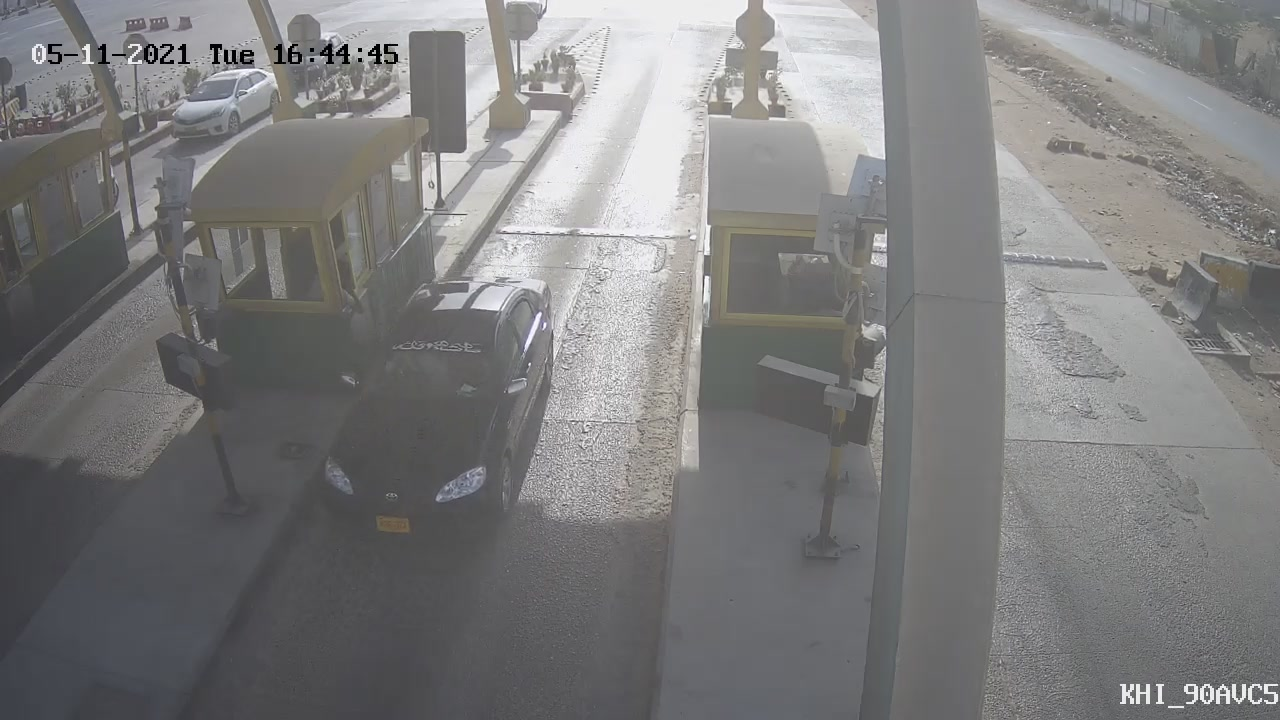F1: (295, 260, 573, 562)
